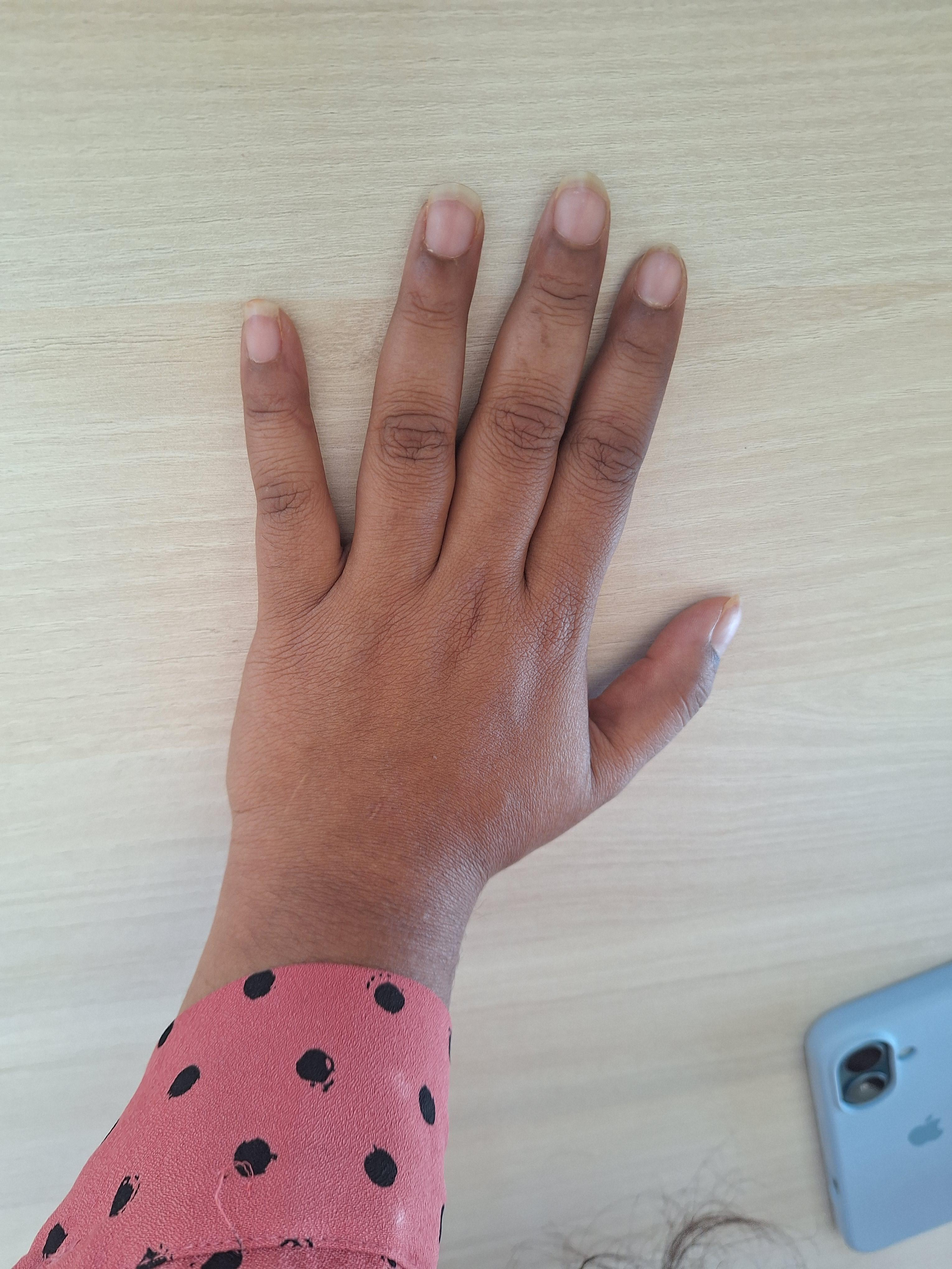Fingernail: (425, 182, 482, 258), (553, 171, 611, 245), (635, 243, 682, 309), (245, 299, 281, 362), (710, 596, 742, 659)
